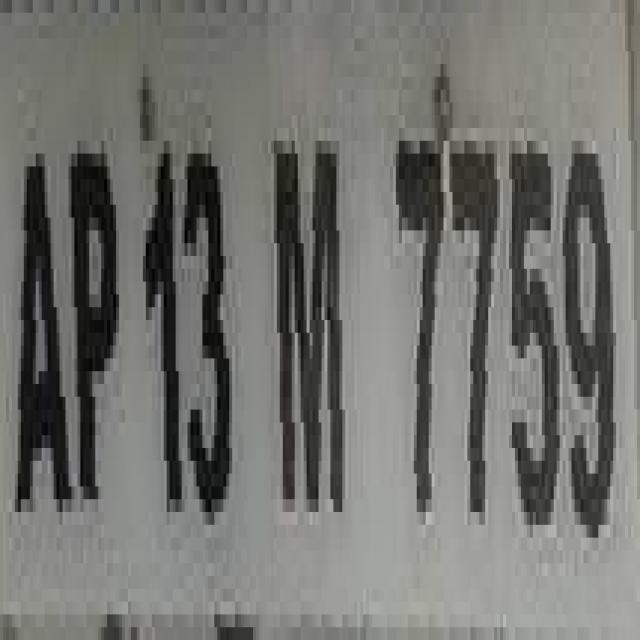license_plate: (0, 25, 622, 640)
